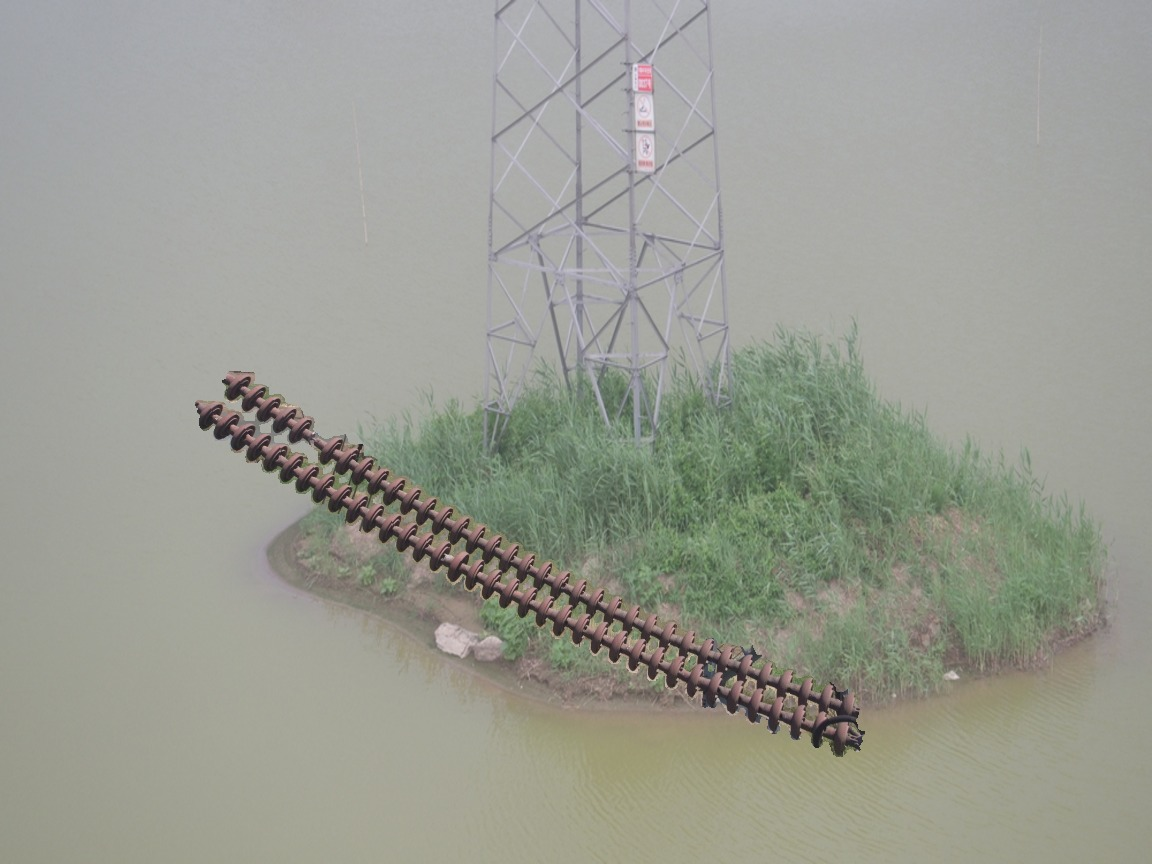defect: (285, 415, 347, 465)
